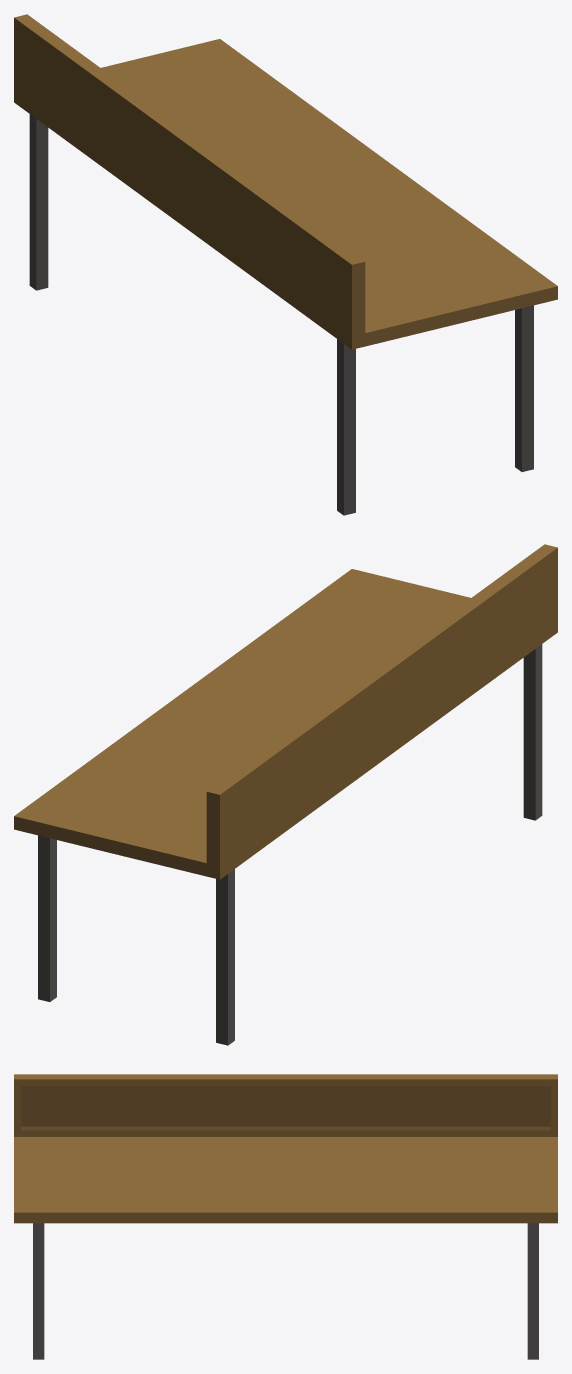
Rendered from SO_Desk_02.fbx.
The picture shows the model from 3 angles, top to bottom: view 1: azimuth 30°, elevation 25°; view 2: azimuth 150°, elevation 25°; view 3: azimuth 270°, elevation 25°; orthographic projection. The views are drawn at different scales.
Visible parts, largest first — view 1: SO_Desk_02; view 2: SO_Desk_02; view 3: SO_Desk_02.
Part boxes in pixels (x1=…): SO_Desk_02: x1=14, y1=14, x2=557, y2=515; SO_Desk_02: x1=14, y1=544, x2=557, y2=1045; SO_Desk_02: x1=14, y1=1074, x2=557, y2=1359.
Bounding box in the file's own units: 1.8 × 2.17 × 5.11.
